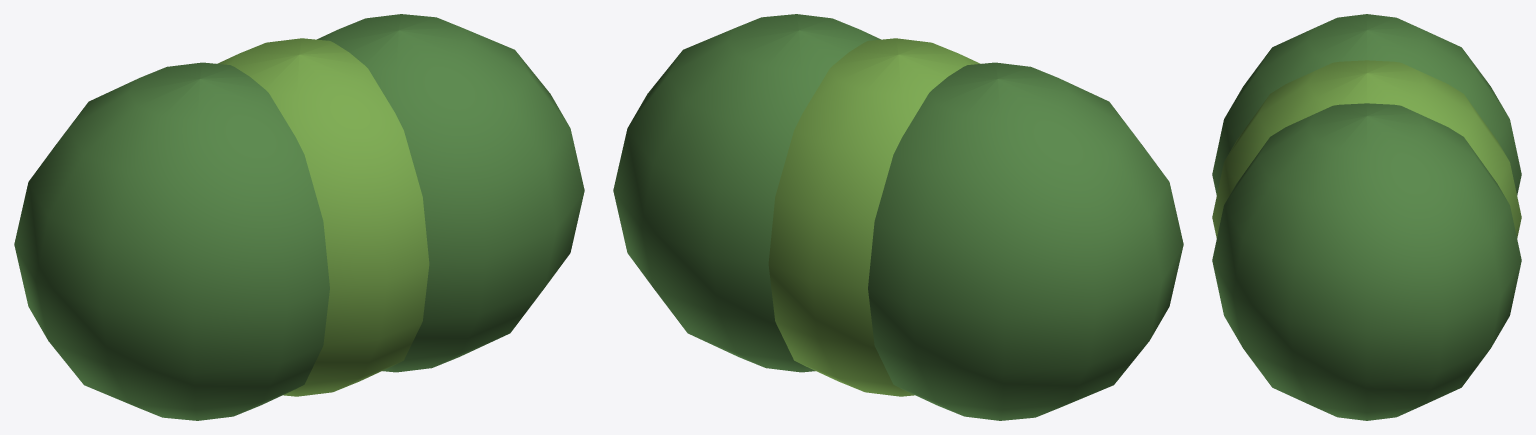
The model's file is bush.glb.
3 views of the same model, side by side, from view 1: azimuth 30°, elevation 25°; view 2: azimuth 150°, elevation 25°; view 3: azimuth 270°, elevation 25° (orthographic). The views are drawn at different scales.
Parts seen in each view (by area): view 1: leaves (×3); view 2: leaves (×3); view 3: leaves (×3).
Part boxes in pixels (left/top/right/bottom): leaves (×3): left=14, top=14, right=584, bottom=420; leaves (×3): left=613, top=14, right=1183, bottom=420; leaves (×3): left=1212, top=14, right=1521, bottom=420.
Bounding box in the file's own units: 1.22 × 0.72 × 0.7.
